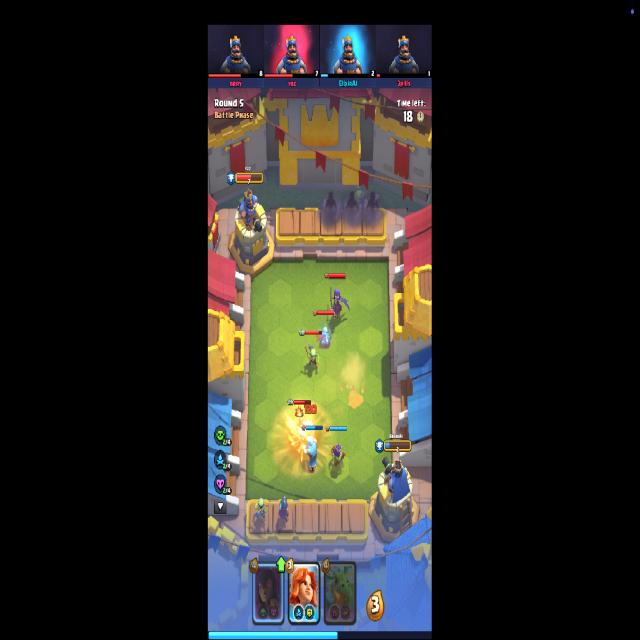archer_queen: (328, 443, 345, 472)
card_baby_drag: (323, 560, 357, 626)
card_valkyrie: (288, 560, 320, 626)
card_witch: (252, 560, 284, 625)
musketeer: (278, 496, 290, 525)
skeleton: (320, 327, 330, 343)
spear_goblin: (305, 342, 320, 370), (255, 498, 269, 523)
valkyrie: (299, 415, 307, 438)
witch: (329, 286, 350, 319)
wizard: (302, 436, 320, 472)
